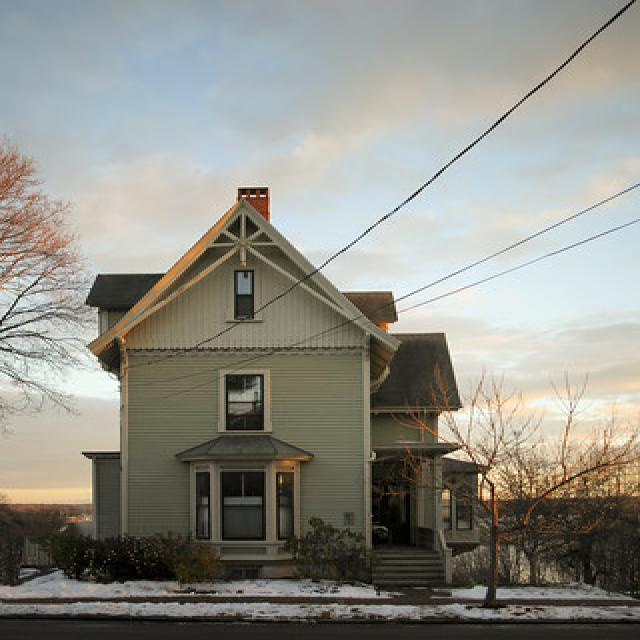building: (78, 198, 494, 592)
